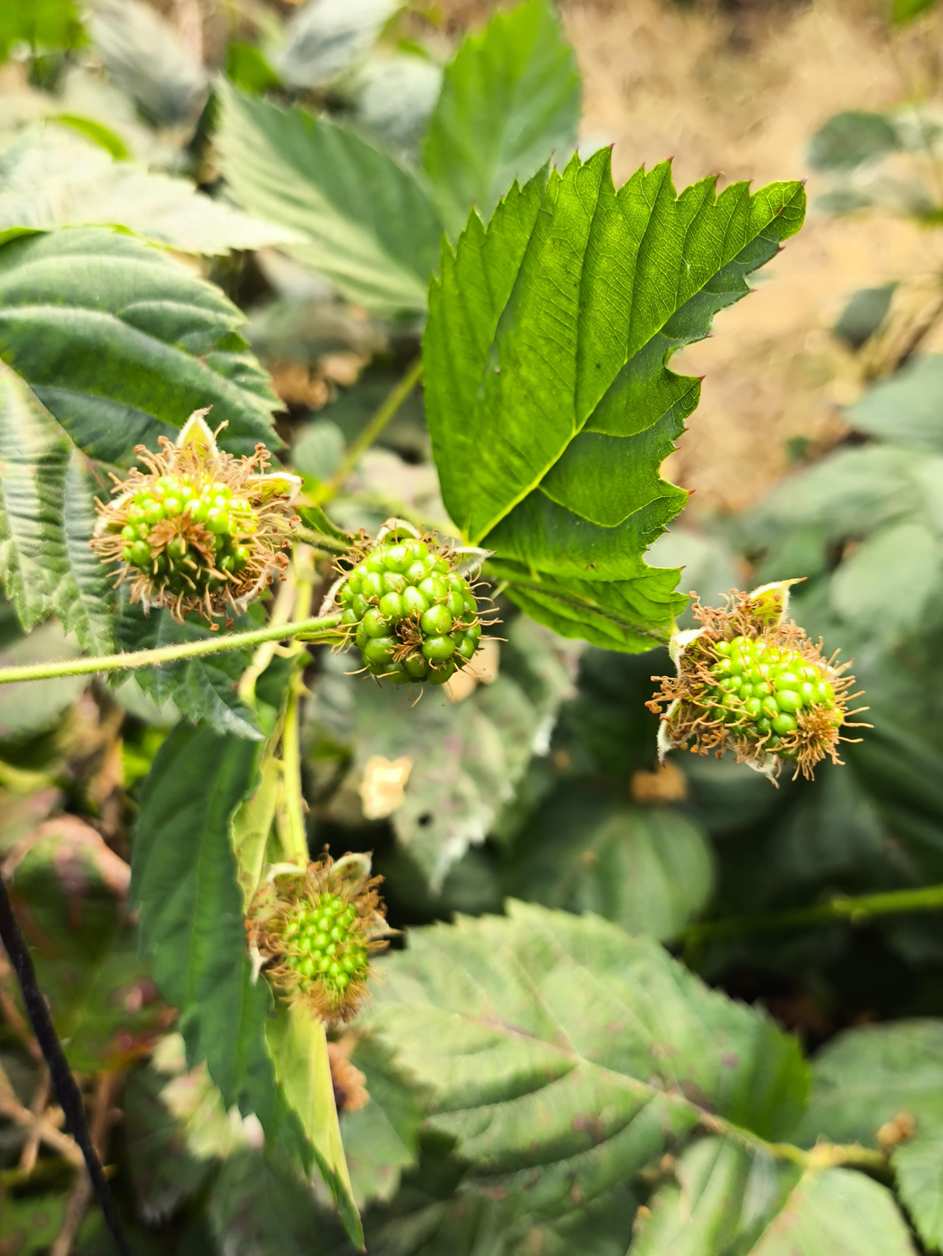verde: (90, 410, 300, 623), (646, 582, 852, 778), (334, 526, 482, 684), (250, 856, 385, 1022)
